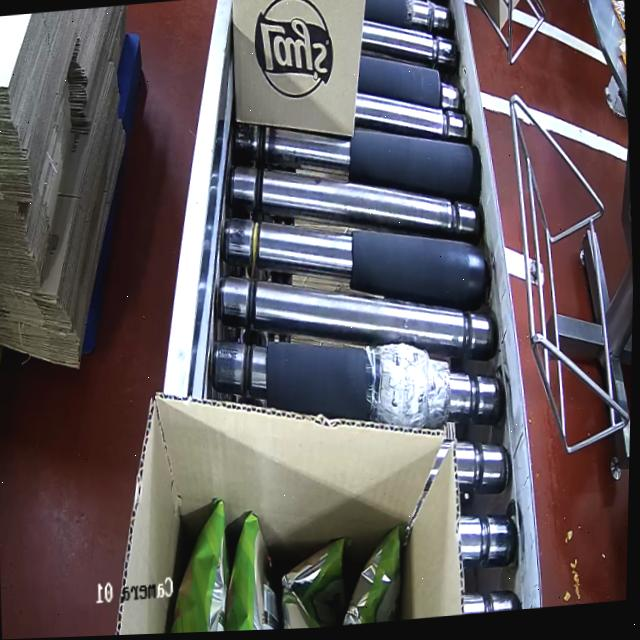YOGURT_HERB: (160, 501, 415, 634)
